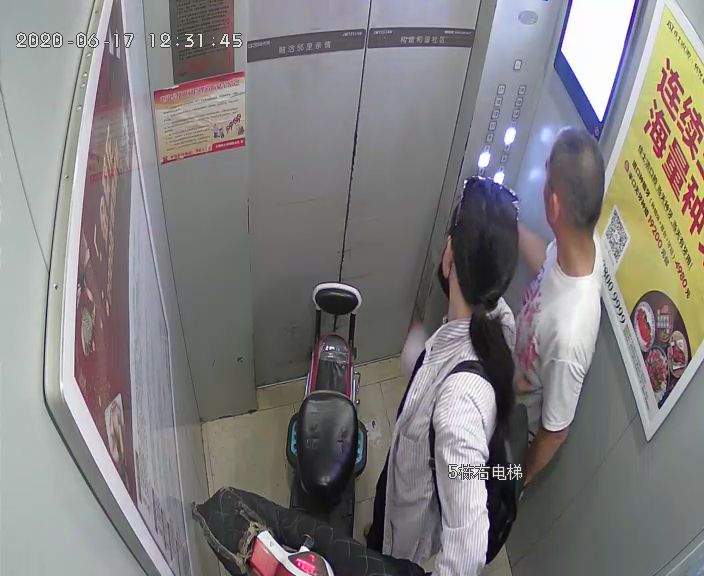Electric-bicycle: (191, 282, 370, 568)
